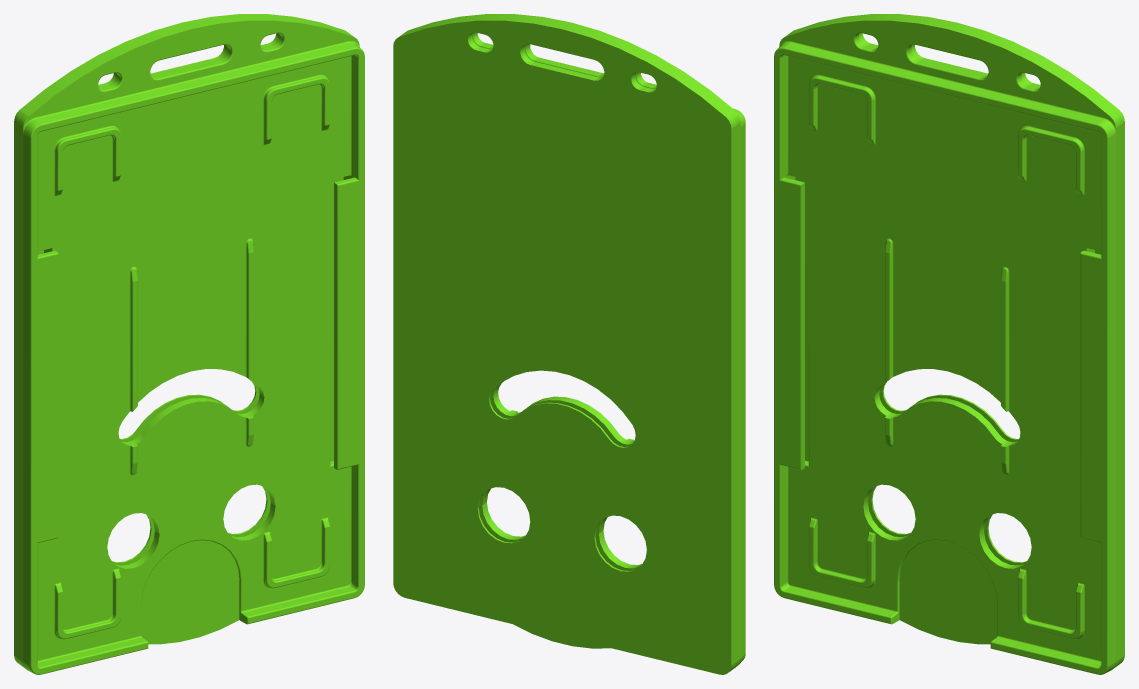
Rendered from mesnap_green.glb.
The picture shows the model from 3 angles, left to right: view 1: azimuth 30°, elevation 25°; view 2: azimuth 150°, elevation 25°; view 3: azimuth 330°, elevation 25°; orthographic projection.
Visible parts, largest first — view 1: 3f362596-a984-4295-8b26-834642958372; view 2: 3f362596-a984-4295-8b26-834642958372; view 3: 3f362596-a984-4295-8b26-834642958372.
Part boxes in pixels (box(x1,y1,x2,y2)): 3f362596-a984-4295-8b26-834642958372: box(14, 14, 364, 674); 3f362596-a984-4295-8b26-834642958372: box(393, 14, 745, 674); 3f362596-a984-4295-8b26-834642958372: box(774, 14, 1124, 674).
Size of the model in its own units: 58.01 by 101 by 4.72.
